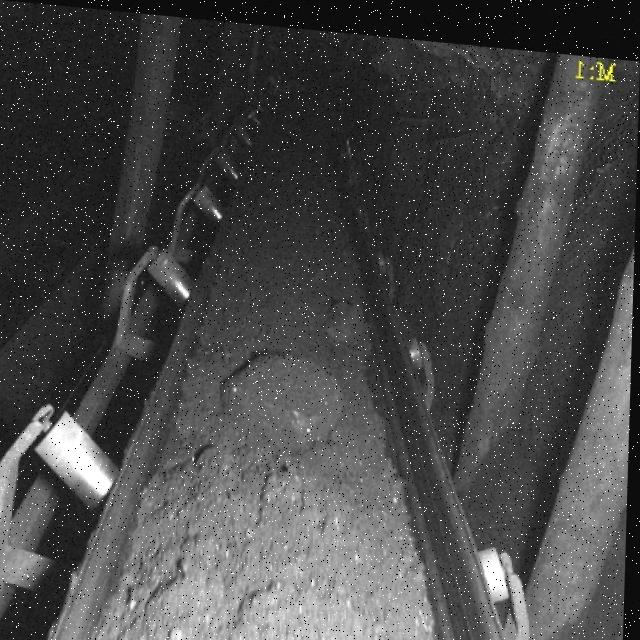large_sized_coal: (228, 338, 346, 444), (320, 289, 379, 349)
